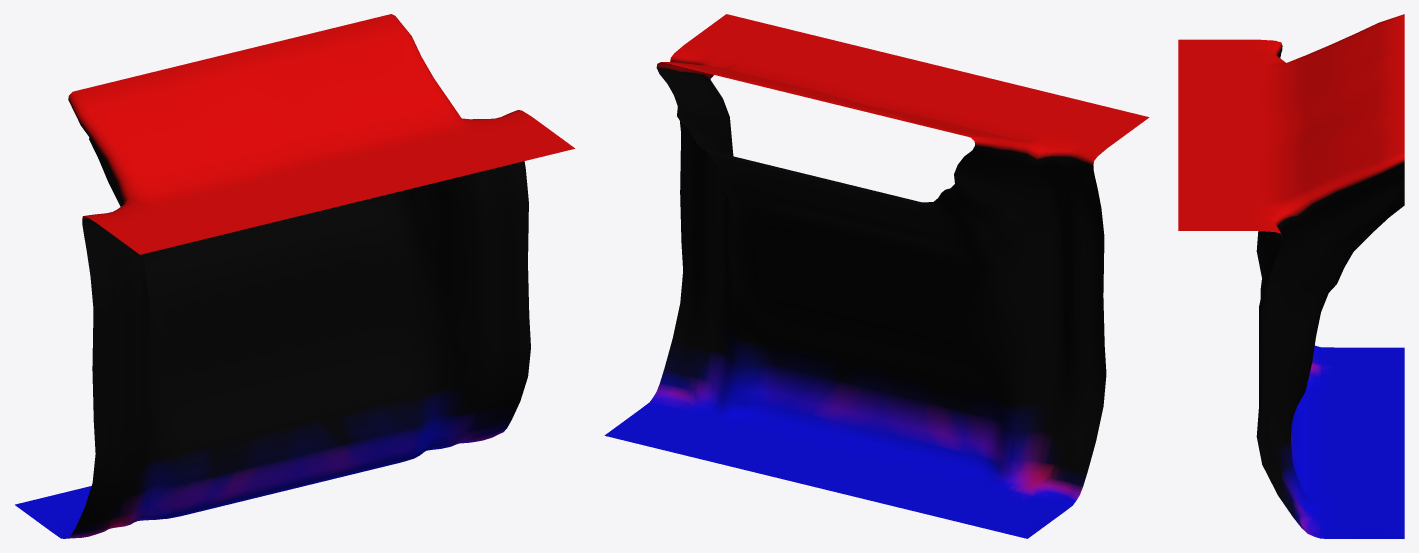
File: CrossingCliff03B 3M for Water Foreground.fbx
3 views of the same model, side by side, from view 1: azimuth 30°, elevation 25°; view 2: azimuth 150°, elevation 25°; view 3: azimuth 270°, elevation 25° (orthographic). The views are drawn at different scales.
Visible parts, largest first — view 1: CrossingCliff03B 3M for Water Foreground; view 2: CrossingCliff03B 3M for Water Foreground; view 3: CrossingCliff03B 3M for Water Foreground.
Part boxes in pixels (x1=…): CrossingCliff03B 3M for Water Foreground: x1=15, y1=14, x2=574, y2=538; CrossingCliff03B 3M for Water Foreground: x1=604, y1=14, x2=1149, y2=538; CrossingCliff03B 3M for Water Foreground: x1=1178, y1=14, x2=1404, y2=538.
Bounding box in the file's own units: 4 × 3.5 × 2.
